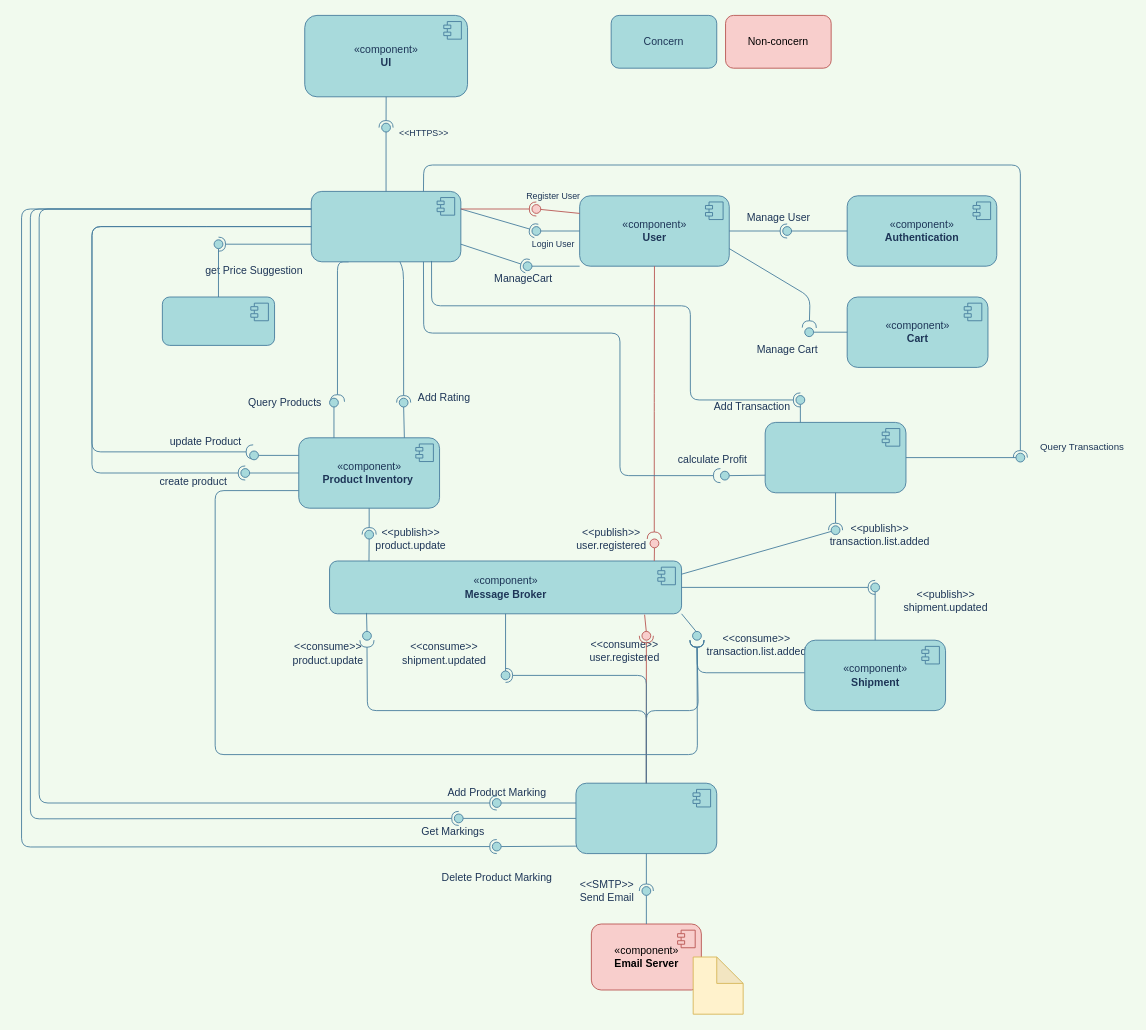
Some shapes in this 1146 by 1030 pixel diagram are drawn without their labels. Each missing label, with the centre of its shape:
"Sends n Emails to m Receivers" belongs at pixel 717 985.
"«component» Notification" belongs at pixel 646 818.
"«component» Payment Transaction" belongs at pixel 835 457.
"«component» Price Suggestion" belongs at pixel 218 320.
"«component» Web Shop" belongs at pixel 385 226.
